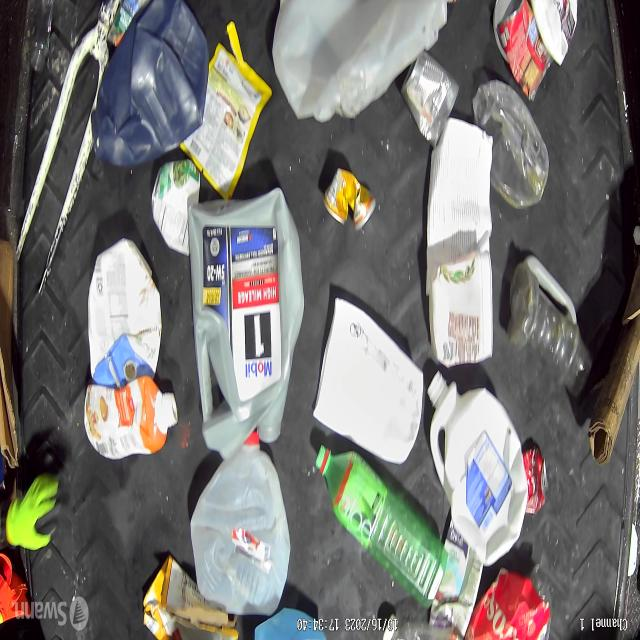can: (406, 60, 458, 144), (324, 168, 374, 229), (524, 448, 546, 516)
milk_jug: (426, 372, 528, 566), (189, 428, 289, 619)
non_white_jug: (95, 4, 211, 172), (500, 0, 550, 102)
plastic_bottle: (481, 86, 546, 210)
